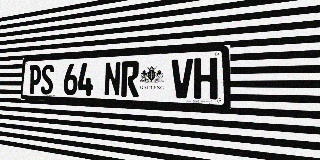4: (78, 63, 93, 96)
6: (63, 63, 78, 95)
H: (194, 57, 217, 99)
N: (104, 61, 121, 97)
P: (28, 65, 41, 94)
R: (121, 61, 139, 97)
S: (40, 64, 54, 95)
V: (171, 58, 193, 99)
